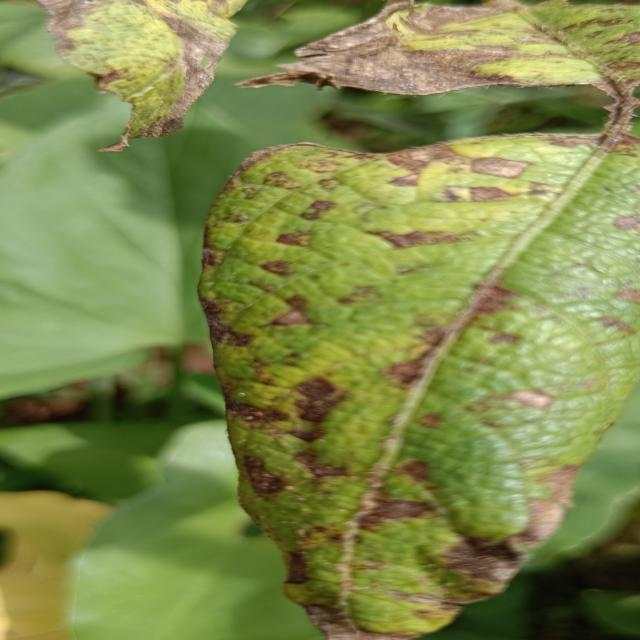Black gram_leaf spot: (157, 119, 640, 640), (255, 0, 640, 104), (25, 0, 244, 148)
